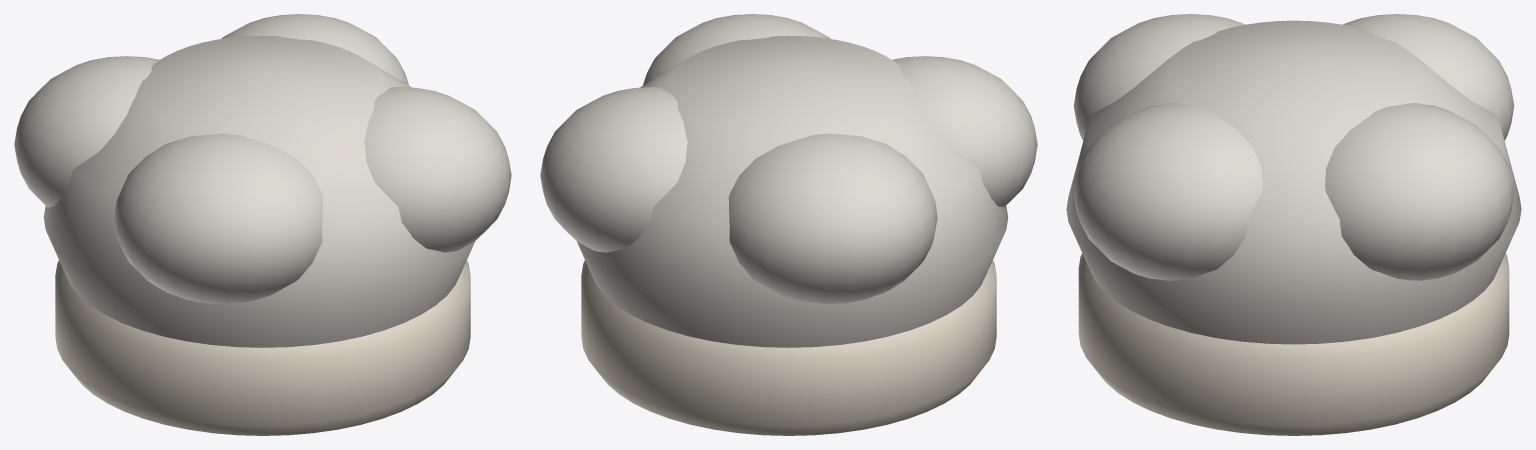
The model's file is chefhat.glb.
3 views of the same model, side by side, from view 1: azimuth 30°, elevation 25°; view 2: azimuth 150°, elevation 25°; view 3: azimuth 270°, elevation 25° (orthographic). The views are drawn at different scales.
Parts seen in each view (by area): view 1: chefhat_Puff, chefhat_Band, chefhat_Lobe2, chefhat_Lobe3, chefhat_Lobe1, chefhat_Lobe0; view 2: chefhat_Puff, chefhat_Band, chefhat_Lobe1, chefhat_Lobe0, chefhat_Lobe2, chefhat_Lobe3; view 3: chefhat_Puff, chefhat_Band, chefhat_Lobe0, chefhat_Lobe3, chefhat_Lobe1, chefhat_Lobe2.
Part boxes in pixels (x1,y1,x2,y2): chefhat_Puff: [43, 35, 474, 347]; chefhat_Band: [55, 260, 470, 435]; chefhat_Lobe2: [114, 133, 323, 304]; chefhat_Lobe3: [364, 87, 511, 252]; chefhat_Lobe1: [14, 56, 159, 207]; chefhat_Lobe0: [221, 14, 408, 85]; chefhat_Puff: [577, 35, 1008, 347]; chefhat_Band: [581, 260, 996, 435]; chefhat_Lobe1: [728, 133, 937, 304]; chefhat_Lobe0: [540, 87, 687, 252]; chefhat_Lobe2: [892, 56, 1037, 207]; chefhat_Lobe3: [643, 14, 830, 85]; chefhat_Puff: [1066, 20, 1521, 344]; chefhat_Band: [1078, 253, 1509, 435]; chefhat_Lobe0: [1325, 103, 1514, 280]; chefhat_Lobe3: [1073, 103, 1262, 280]; chefhat_Lobe1: [1343, 14, 1514, 140]; chefhat_Lobe2: [1073, 14, 1244, 140].
Bounding box in the file's own units: 0.3808 × 0.27 × 0.3808.
